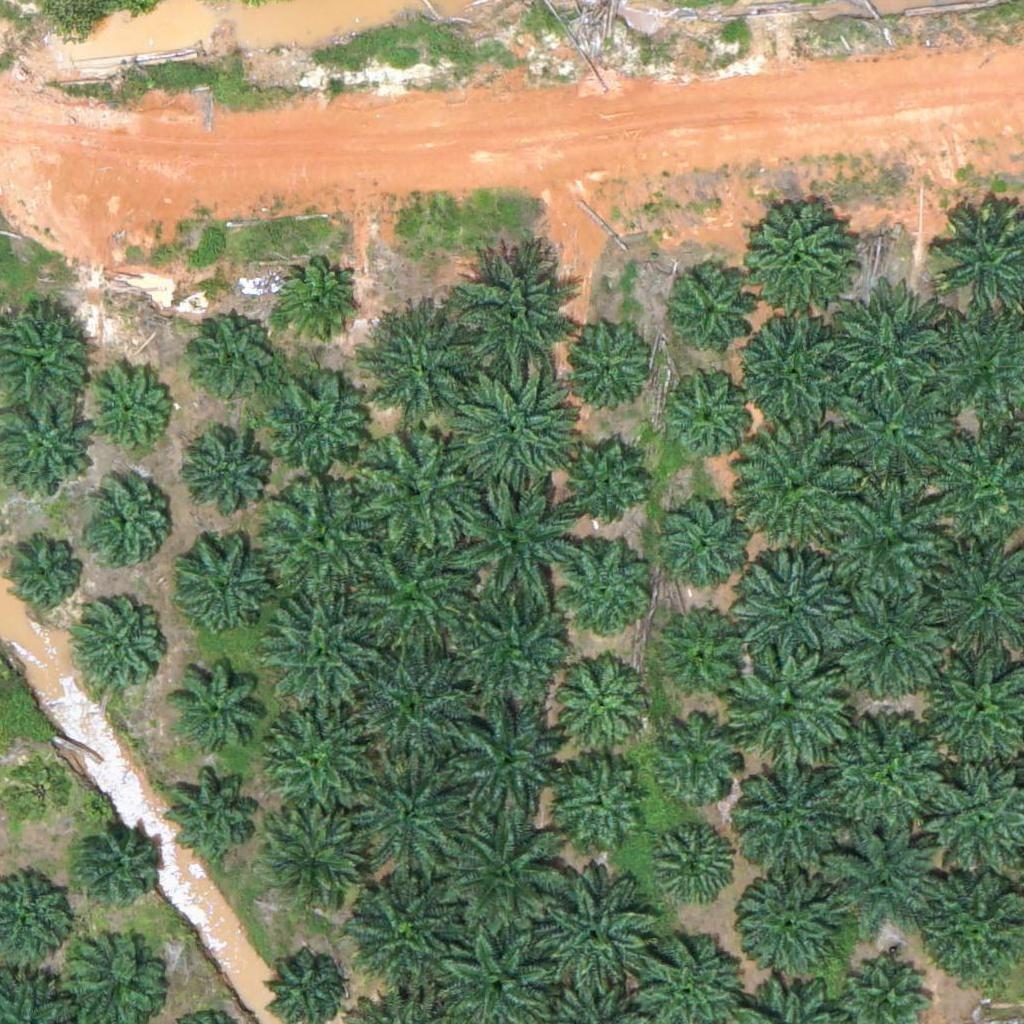Kelapa_Sawit: (826, 817, 951, 943), (822, 713, 947, 839), (829, 480, 954, 606), (834, 372, 959, 498), (828, 292, 953, 418), (732, 312, 857, 438), (731, 541, 856, 667), (727, 646, 852, 772), (541, 870, 666, 996), (441, 695, 566, 821), (454, 245, 579, 371), (449, 366, 574, 492), (450, 478, 575, 604), (454, 593, 579, 719), (363, 301, 488, 427), (358, 426, 483, 552), (351, 529, 476, 655), (352, 642, 477, 768), (348, 750, 473, 876), (260, 475, 385, 601), (826, 583, 951, 708), (743, 423, 868, 548), (443, 809, 568, 934), (737, 198, 850, 312), (730, 770, 843, 883), (735, 873, 848, 986), (342, 872, 455, 985), (258, 799, 370, 912), (262, 692, 374, 805), (262, 591, 374, 704), (555, 543, 655, 644), (550, 653, 650, 754), (547, 753, 647, 854), (270, 373, 370, 474), (166, 654, 266, 755), (165, 761, 265, 862), (557, 314, 657, 414), (171, 535, 271, 635), (651, 712, 739, 800), (662, 493, 750, 581), (192, 314, 280, 402), (85, 369, 173, 457), (82, 482, 170, 570), (74, 605, 162, 693), (73, 816, 160, 905), (2, 529, 89, 617), (654, 816, 741, 904), (662, 611, 749, 699), (669, 370, 756, 458), (668, 271, 755, 359), (562, 443, 649, 531), (272, 257, 359, 345), (186, 433, 273, 521), (2, 752, 77, 828)
